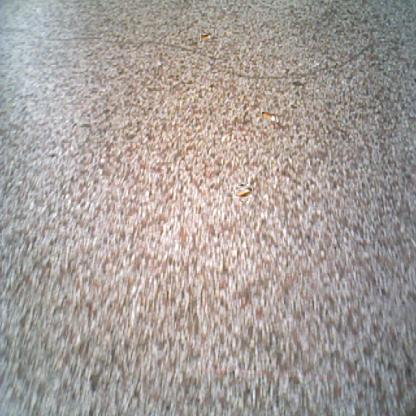dirty: (237, 185, 251, 200), (262, 112, 276, 124), (200, 33, 211, 41)
